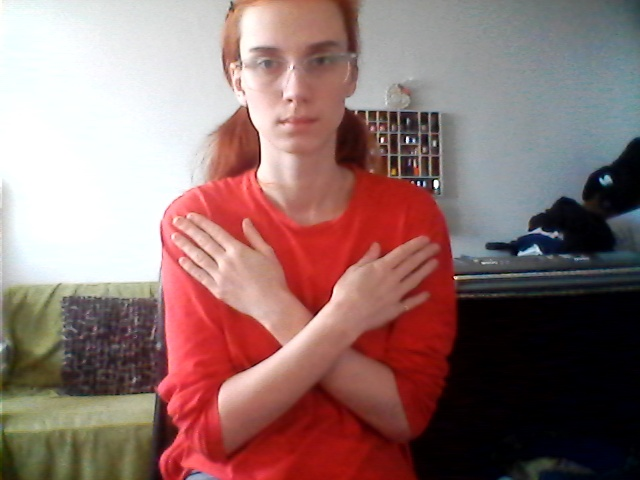z: (166, 209, 444, 450)
